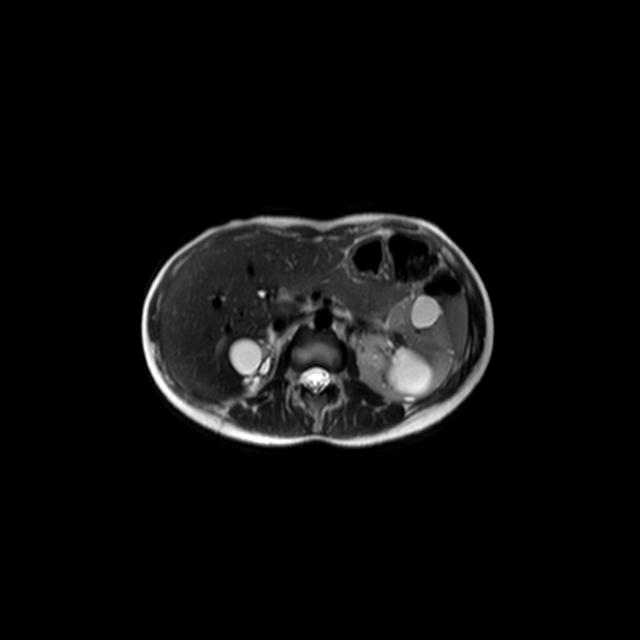sag: (227, 338, 278, 397)
sol: (348, 293, 455, 405)
